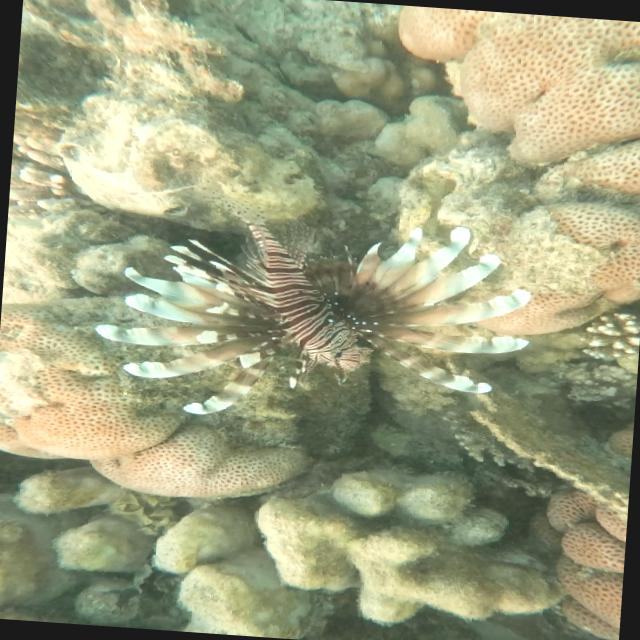Aslan Baligi: (85, 199, 538, 439)
